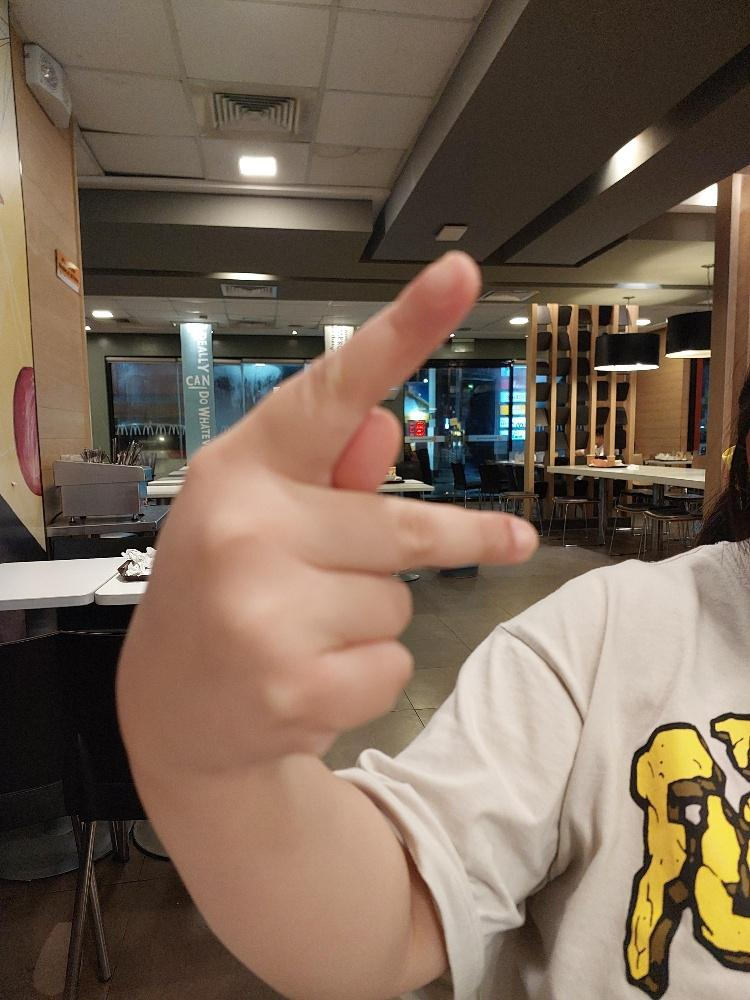k: (115, 247, 541, 771)
